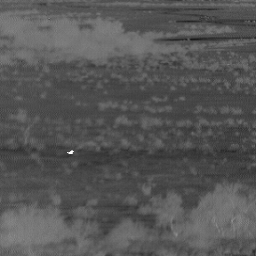Target: (65, 149, 75, 156)
